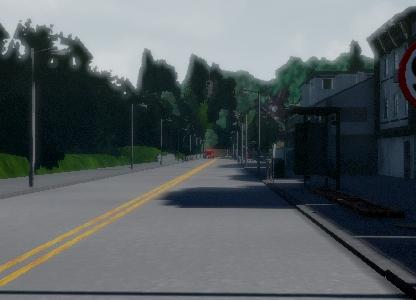Speed_90: (397, 32, 416, 115)
